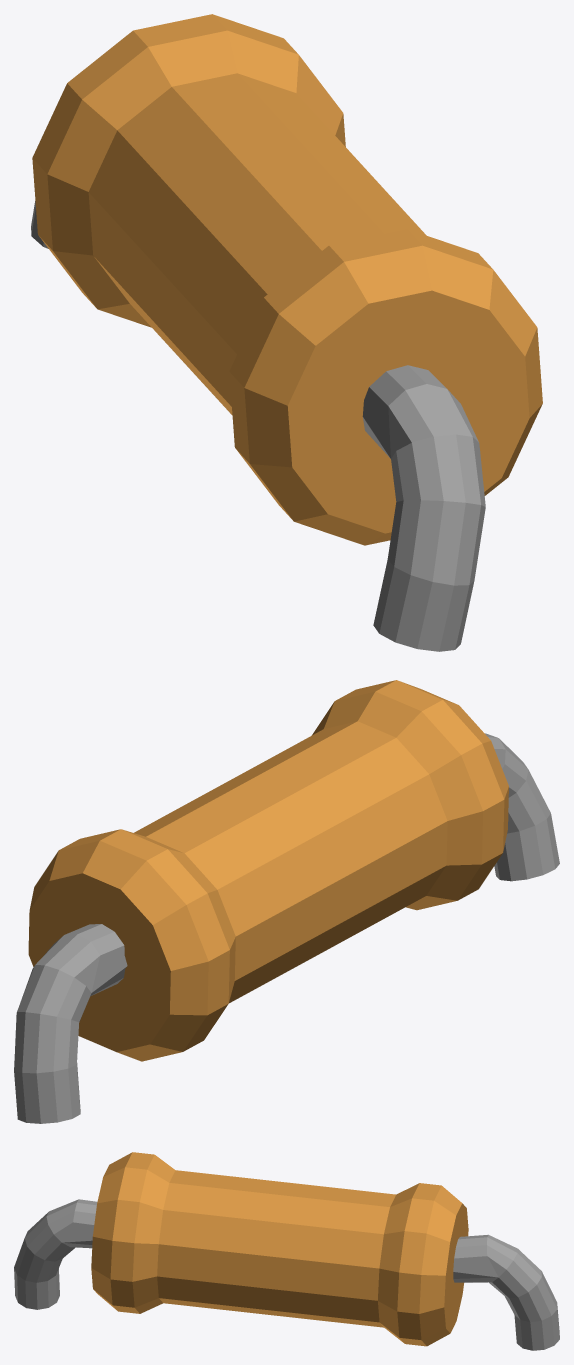
The model's file is orange.glb.
The picture shows the model from 3 angles, top to bottom: view 1: azimuth 30°, elevation 25°; view 2: azimuth 150°, elevation 25°; view 3: azimuth 270°, elevation 25°; orthographic projection. The views are drawn at different scales.
Parts seen in each view (by area): view 1: group1841080786, group666918444; view 2: group1841080786, group1565879347, group666918444; view 3: group1841080786, group1565879347, group666918444.
Boxes of the visible parts, x1,y1,x2,y2 form: group1841080786: (32,14,542,545); group666918444: (362,365,485,651); group1841080786: (28,680,508,1061); group1565879347: (14,924,127,1123); group666918444: (485,733,559,881); group1841080786: (91,1152,468,1346); group1565879347: (453,1234,559,1350); group666918444: (14,1199,97,1309).
Size of the model in its own units: 0.0948 by 0.0781 by 0.2432.
